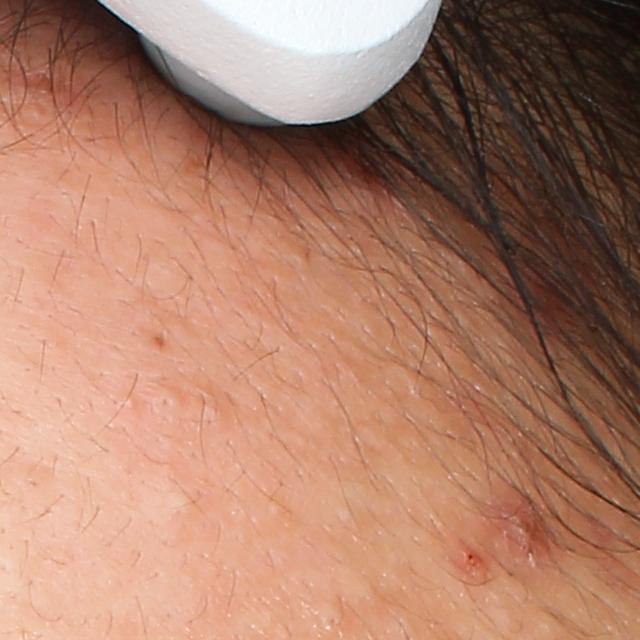comedo: (190, 389, 231, 440), (312, 597, 348, 634)
papule: (494, 498, 553, 563), (459, 545, 490, 575)
